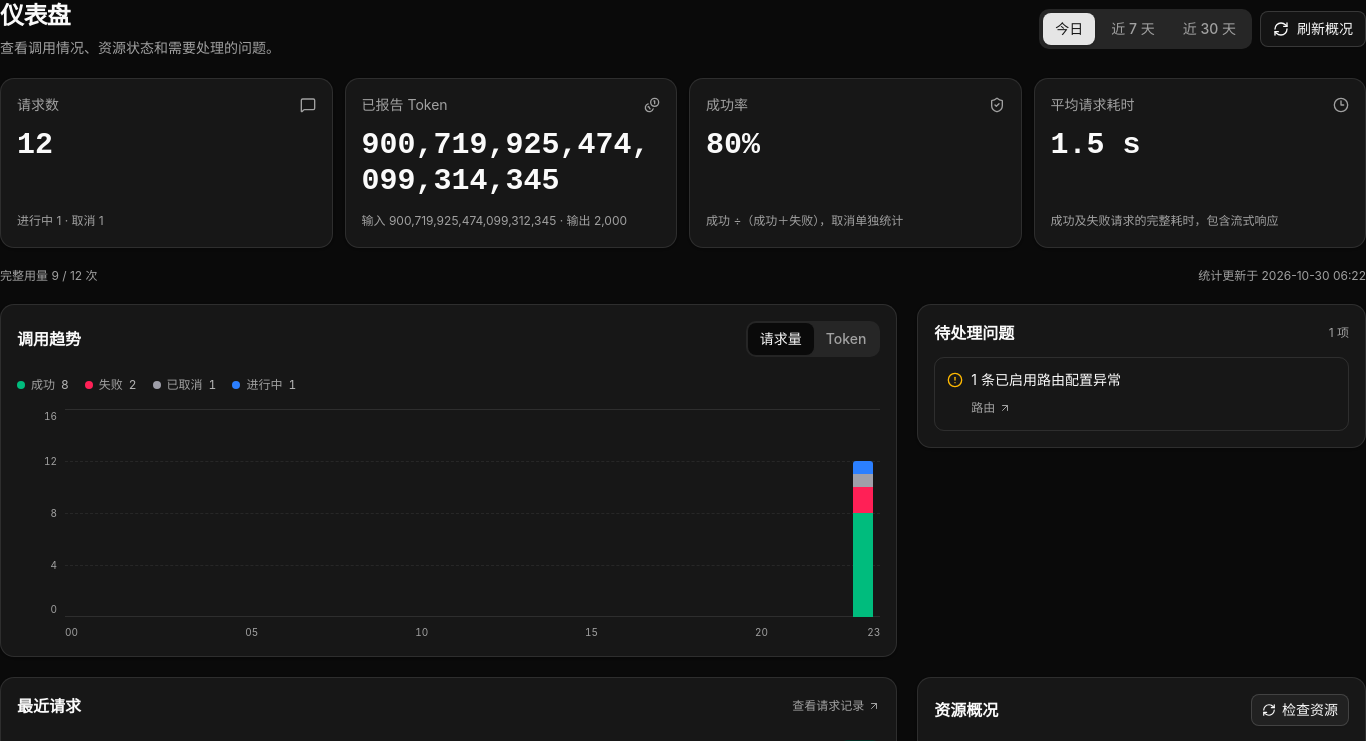
Test: dashboard overview › reads cached Google quota without a network request and refreshes only on demand
Click the button "检查资源" at coordinates (1300, 710), box x1=1251 y1=694 x2=1349 y2=726
(page scrolled)
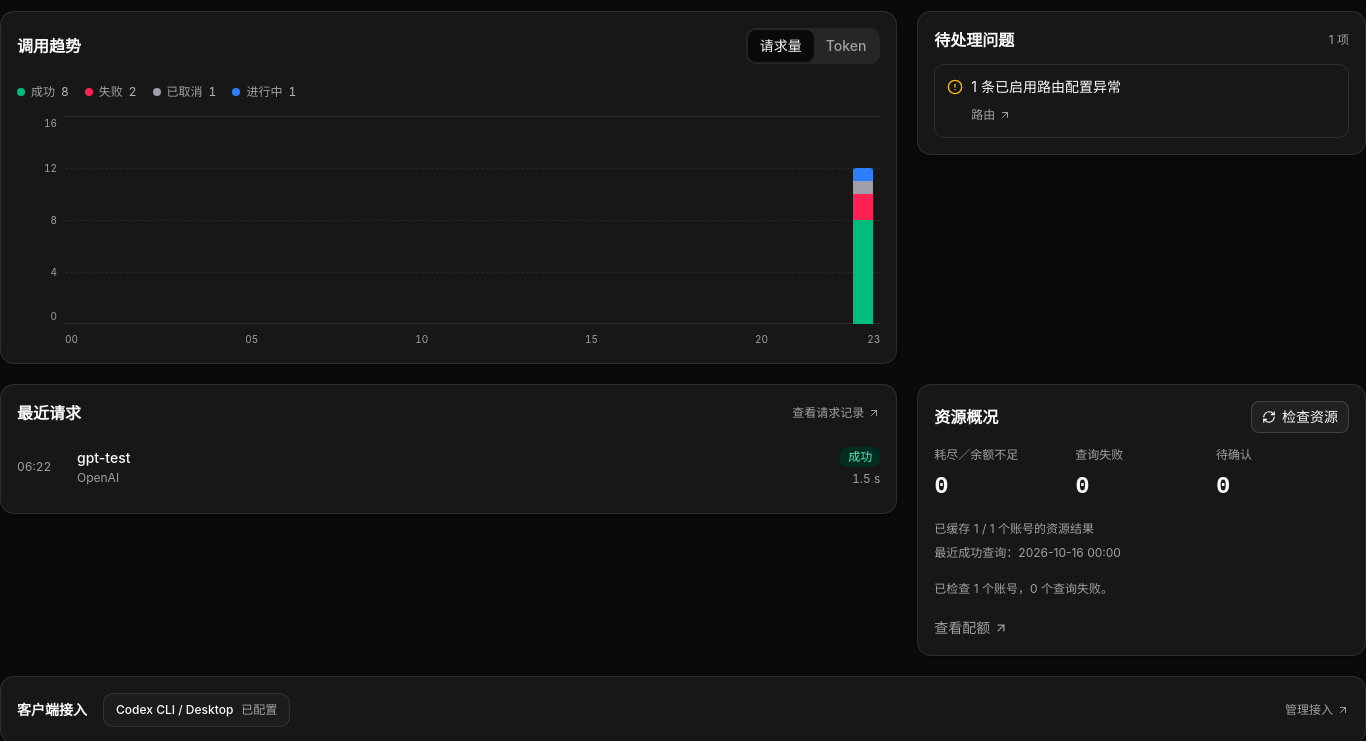
expect the text "已检查 1 个账号，0 个查询失败。" is shown: met, box x1=934 y1=581 x2=1113 y2=596
